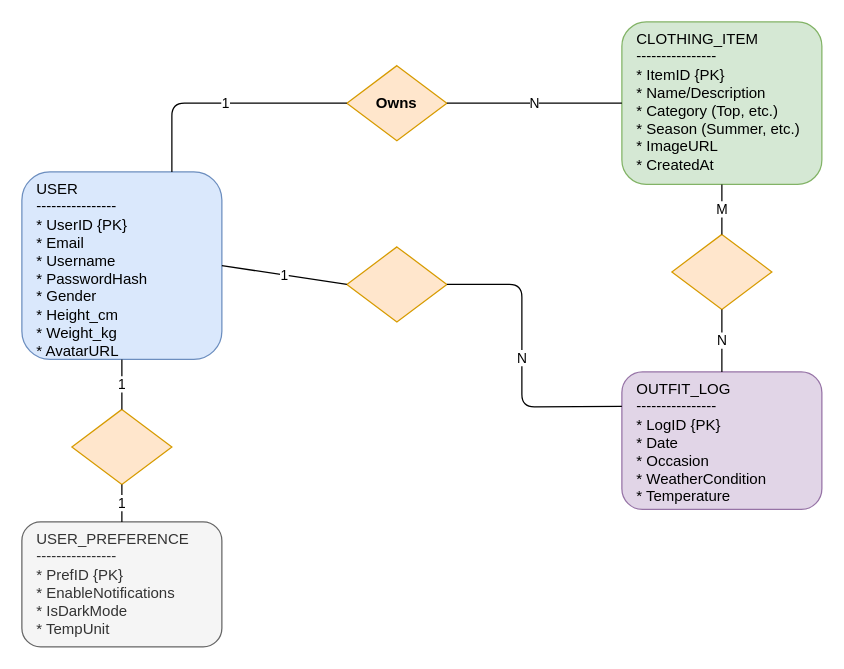
Image size: 844x669. Some labels were removed from this diagram. Each missing label, with the centre of its shape:
Composed Of: the point at 721,271
Has: the point at 121,446
Logs: the point at 396,284
